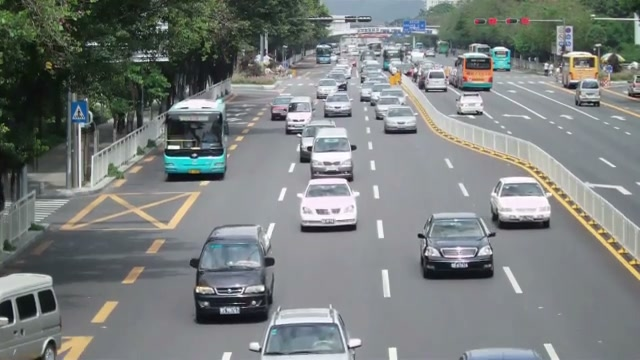bus: (162, 98, 229, 180), (450, 52, 494, 91), (560, 51, 599, 88), (491, 47, 512, 71)
car: (189, 224, 277, 323), (250, 306, 362, 358), (0, 273, 63, 358), (417, 212, 496, 279), (297, 177, 359, 232), (489, 176, 552, 229), (309, 130, 355, 181), (298, 121, 335, 162), (284, 97, 313, 135), (383, 106, 417, 134), (574, 78, 601, 107), (374, 97, 406, 120), (323, 92, 352, 117), (455, 92, 484, 115), (270, 95, 293, 121), (423, 70, 447, 93), (316, 79, 339, 100), (626, 76, 640, 97)
truck: (560, 51, 600, 88)
